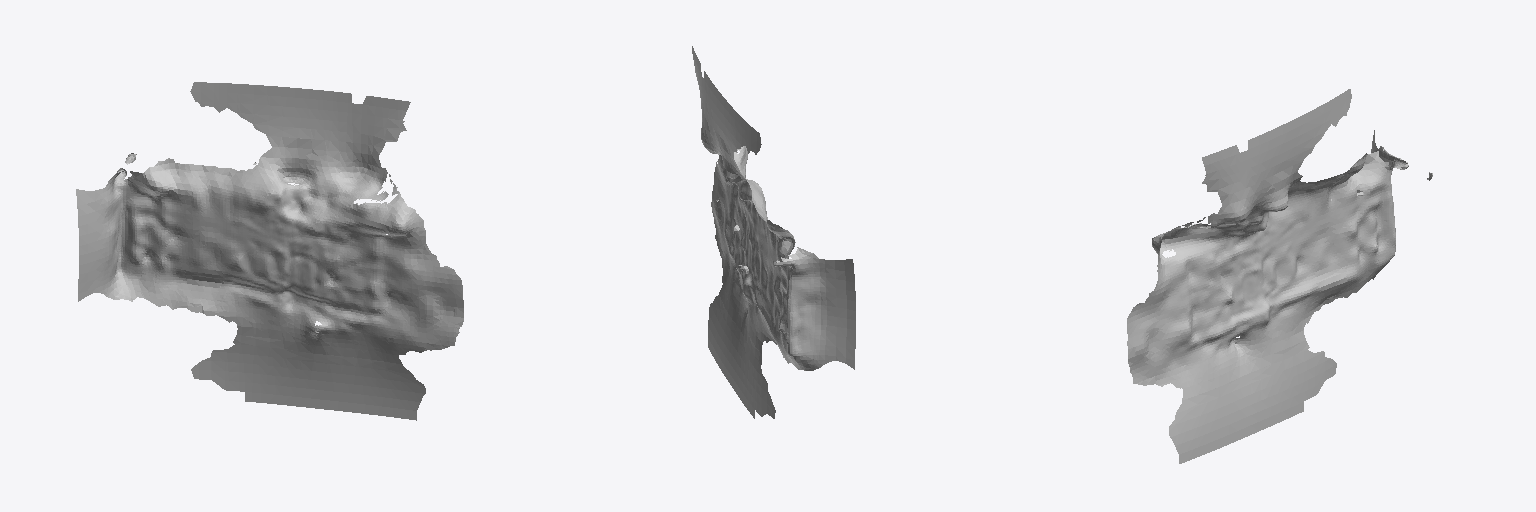
Rendered from modelsimplified.obj.
The picture shows the model from 3 angles: view 1: azimuth 30°, elevation 25°; view 2: azimuth 150°, elevation 25°; view 3: azimuth 270°, elevation 25°; orthographic projection.
Size of the model in its own units: 2.18 by 2.44 by 2.18.